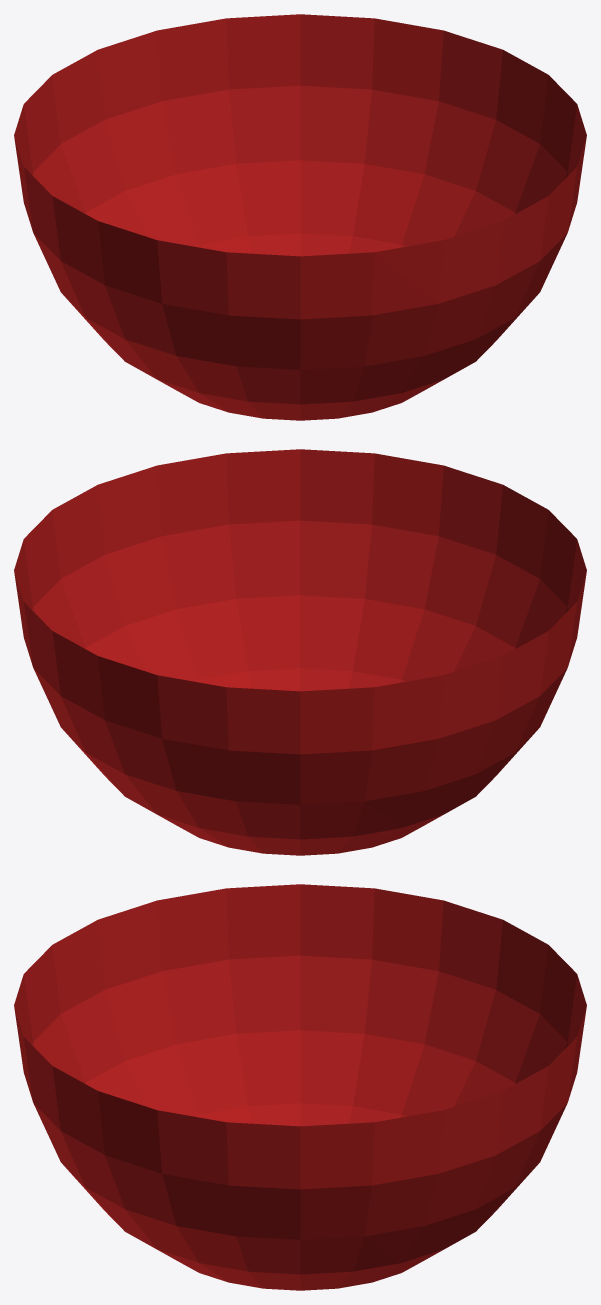
Rendered from zatana_terra_base_vis_41.dae.
3 views of the same model, one above another, from view 1: azimuth 30°, elevation 25°; view 2: azimuth 150°, elevation 25°; view 3: azimuth 270°, elevation 25° (orthographic).
Visible parts, largest first — view 1: Node_000002318374BEC0; view 2: Node_000002318374BEC0; view 3: Node_000002318374BEC0.
Boxes of the visible parts, <box> form: Node_000002318374BEC0: <box>14,14,586,420</box>; Node_000002318374BEC0: <box>14,449,586,855</box>; Node_000002318374BEC0: <box>14,884,586,1290</box>.
Bounding box in the file's own units: 0.00384 × 0.00192 × 0.00384.
